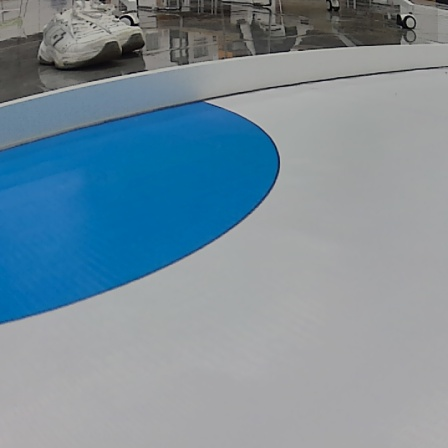blue_base: (2, 101, 281, 323)
